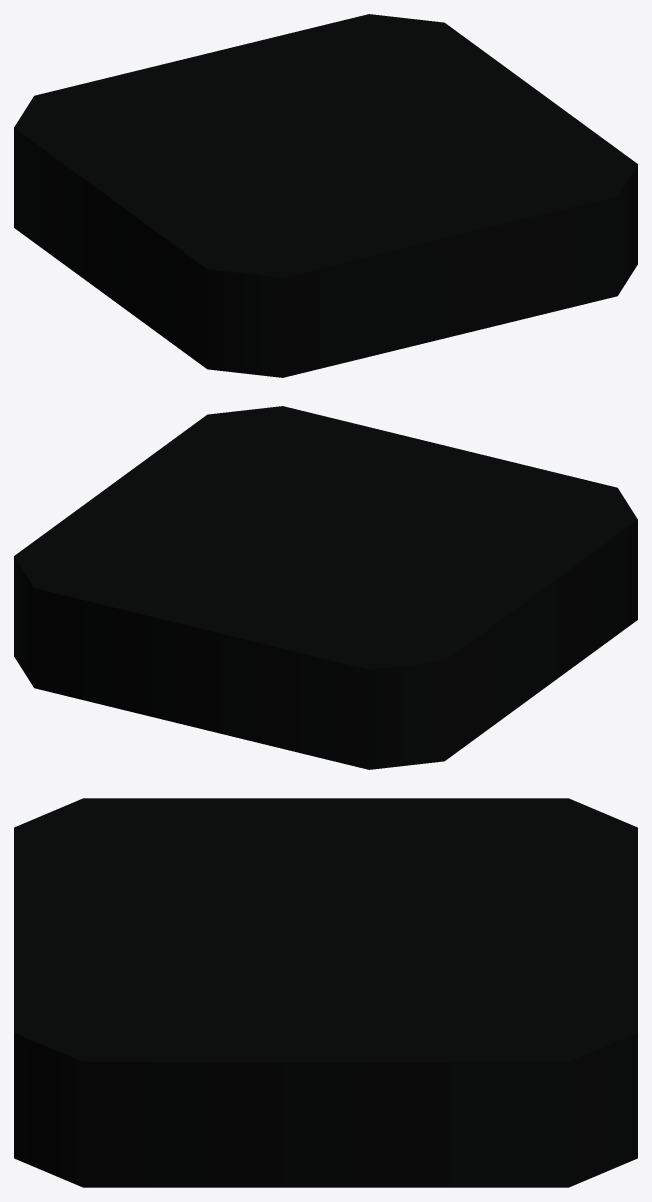
The model's file is debris-plate-small-a.glb.
3 renders of one model, top to bottom at view 1: azimuth 30°, elevation 25°; view 2: azimuth 150°, elevation 25°; view 3: azimuth 270°, elevation 25°, orthographic. The views are drawn at different scales.
Visible parts, largest first — view 1: debris-plate-small-a; view 2: debris-plate-small-a; view 3: debris-plate-small-a.
Part boxes in pixels (x1,y1,x2,y2): debris-plate-small-a: [14, 14, 637, 377]; debris-plate-small-a: [14, 406, 637, 769]; debris-plate-small-a: [14, 798, 637, 1187].
Bounding box in the file's own units: 0.45 × 0.1 × 0.45.
1 material, 1 textured.
